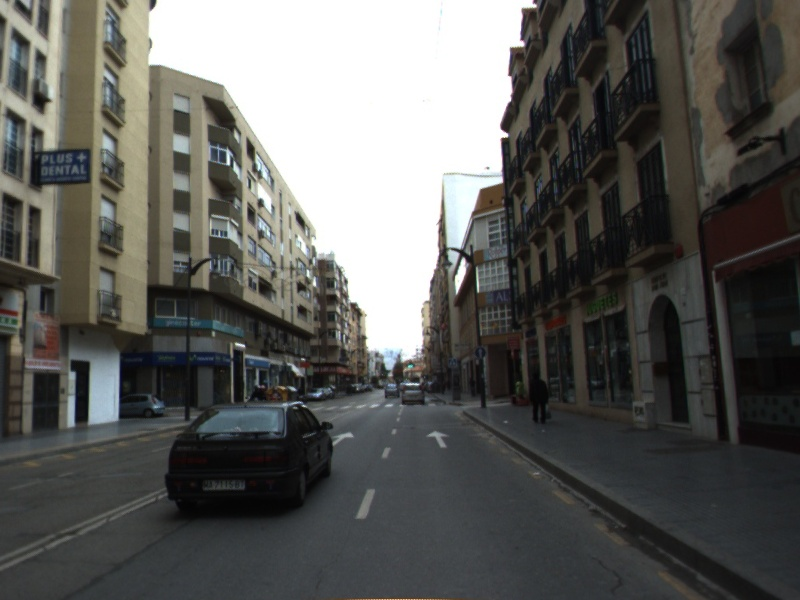STRAIGHT: (424, 428, 451, 449), (331, 430, 356, 446)
